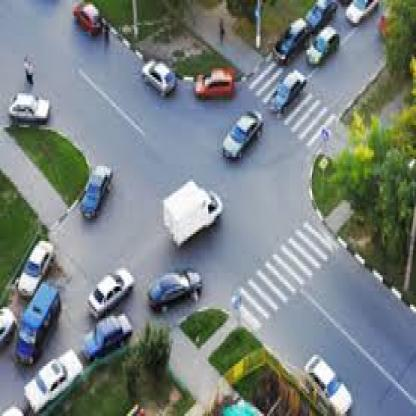car: (291, 335, 369, 416), (158, 176, 236, 251), (6, 344, 96, 406), (12, 280, 64, 364), (76, 314, 152, 368), (78, 156, 129, 236), (15, 222, 60, 305), (219, 104, 271, 172), (140, 266, 208, 316), (86, 259, 134, 320), (10, 80, 62, 134), (191, 51, 238, 108), (134, 42, 176, 102), (270, 65, 308, 121), (66, 0, 111, 42), (309, 23, 342, 74)
